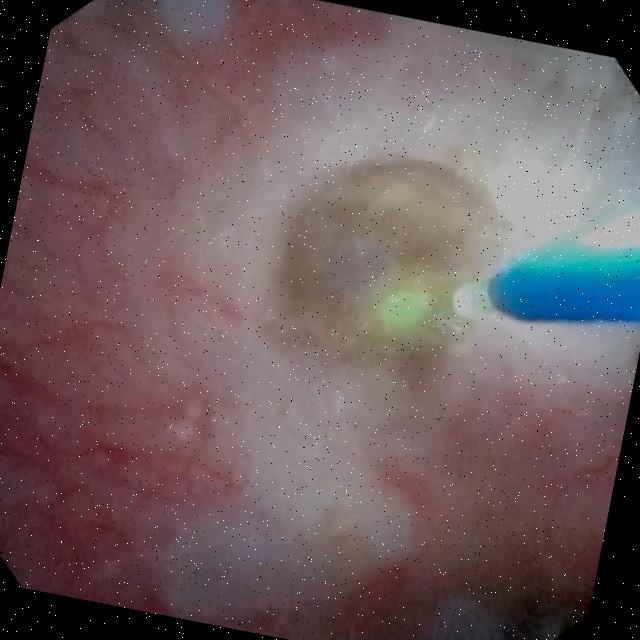laser-fibre: (454, 280, 491, 317)
laser_dot: (382, 291, 433, 335)
stone-new: (284, 158, 499, 351)
